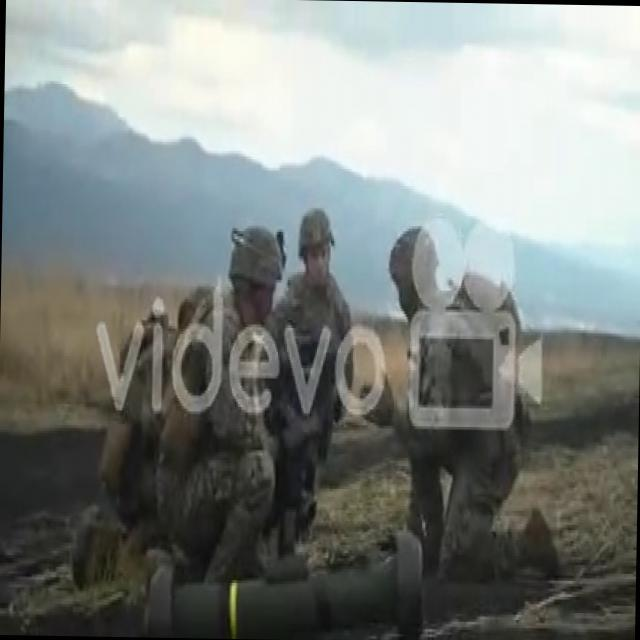rocket: (146, 526, 424, 636)
